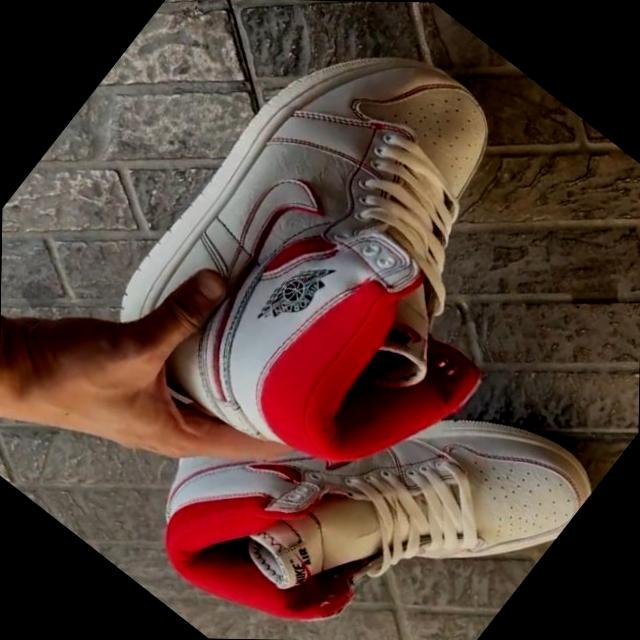nike_fake_jordan: (83, 0, 625, 543), (113, 257, 605, 640)
